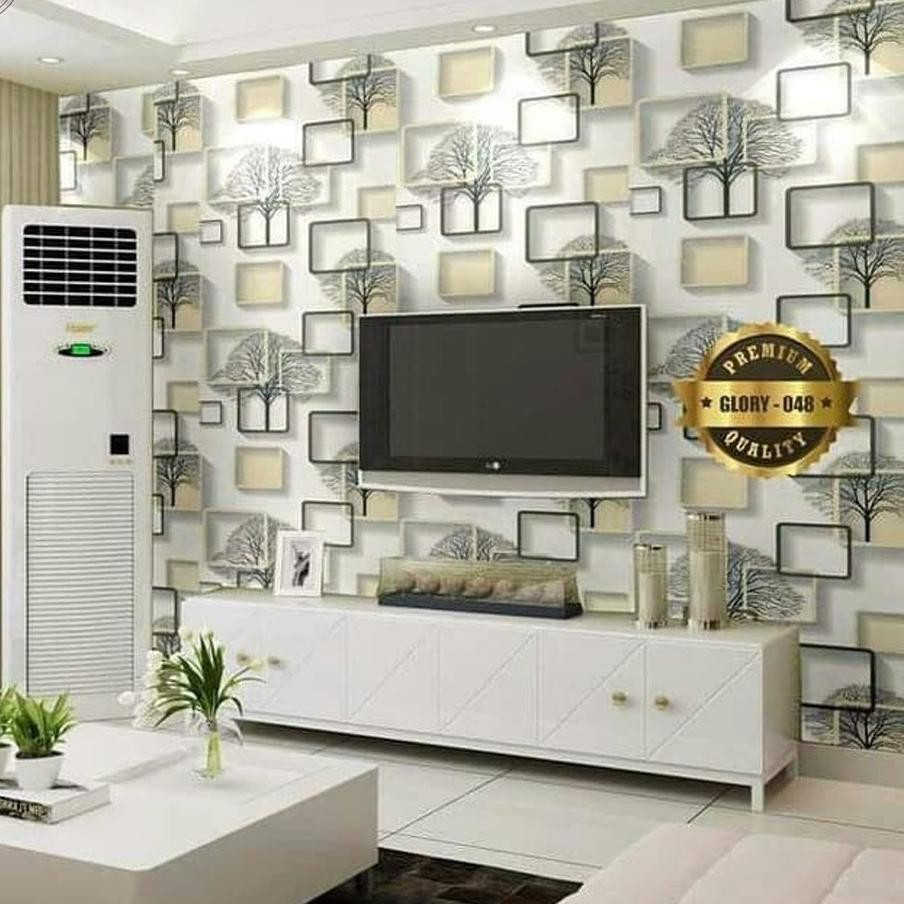meja: (177, 586, 823, 809)
tanaman: (153, 639, 257, 780), (9, 689, 70, 791)
